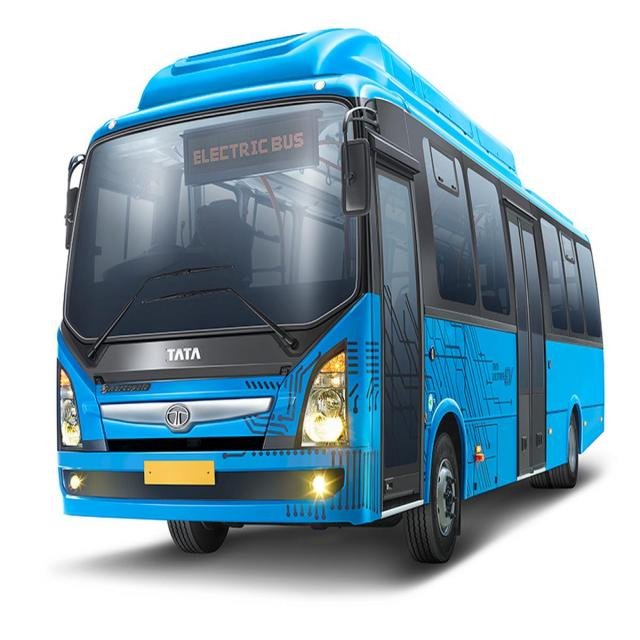bus: (53, 15, 609, 567)
